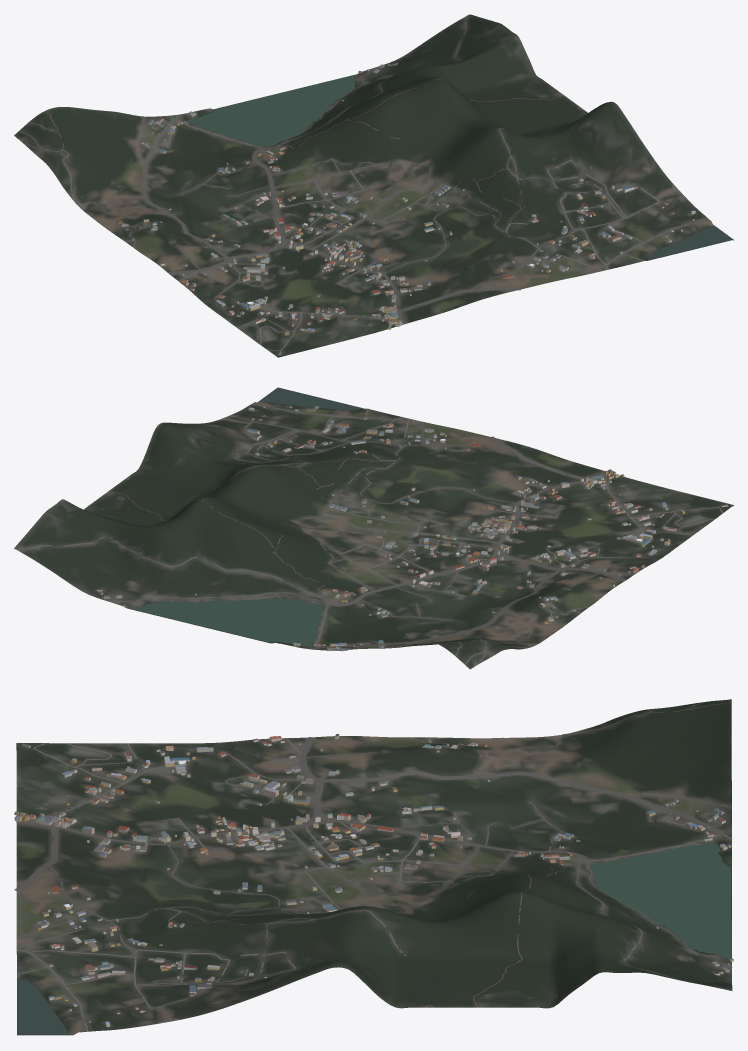
The picture shows the model from 3 angles, top to bottom: view 1: azimuth 30°, elevation 25°; view 2: azimuth 150°, elevation 25°; view 3: azimuth 270°, elevation 25°; orthographic projection. The views are drawn at different scales.
Visible parts, largest first — view 1: ground, roads, buildings, water; view 2: ground, roads, buildings, water; view 3: ground, water, buildings, roads.
Part boxes in pixels (bbox=[...]): ground: bbox=[14, 14, 733, 357]; roads: bbox=[17, 15, 707, 350]; buildings: bbox=[119, 62, 695, 354]; water: bbox=[186, 74, 732, 259]; ground: bbox=[14, 387, 733, 669]; roads: bbox=[15, 403, 723, 666]; buildings: bbox=[97, 405, 728, 651]; water: bbox=[129, 387, 361, 646]; ground: bbox=[16, 699, 732, 1035]; water: bbox=[17, 842, 731, 1034]; buildings: bbox=[14, 734, 733, 1026]; roads: bbox=[14, 700, 732, 1031].
Size of the model in its own units: 1401 by 173 by 1411.
